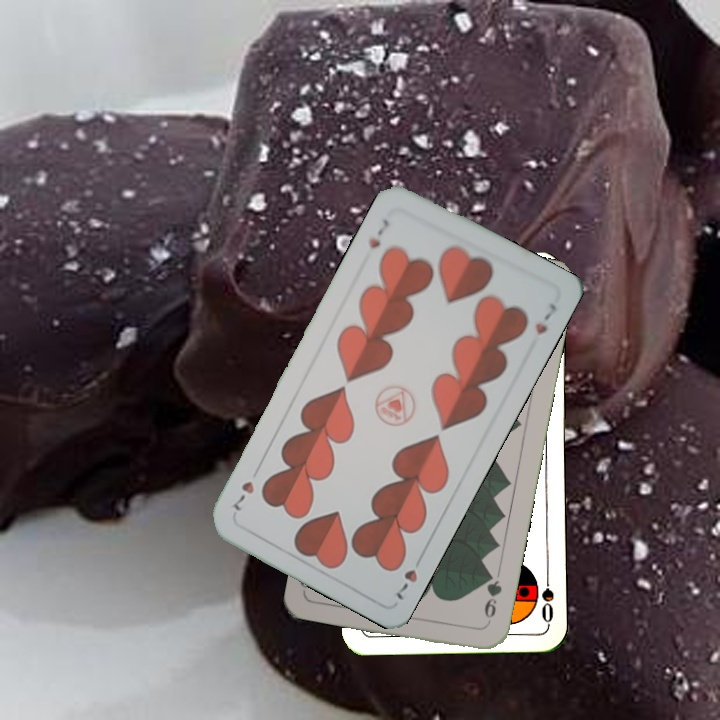G9: (480, 568, 505, 628)
H7: (392, 550, 426, 603), (364, 214, 393, 252)
SO: (537, 567, 557, 626)
